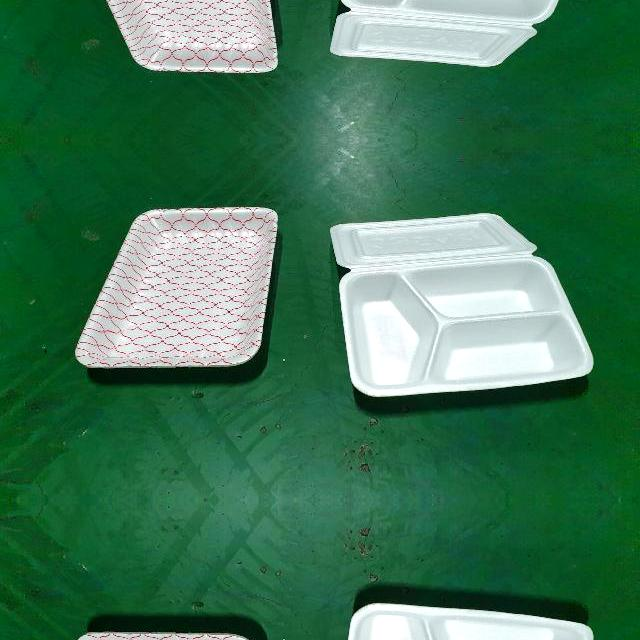Styrofoam: (330, 212, 594, 398), (331, 213, 594, 396), (72, 205, 278, 367), (75, 206, 277, 368), (329, 0, 594, 67), (72, 0, 277, 75), (331, 0, 560, 67), (105, 0, 277, 74), (329, 602, 594, 640)
